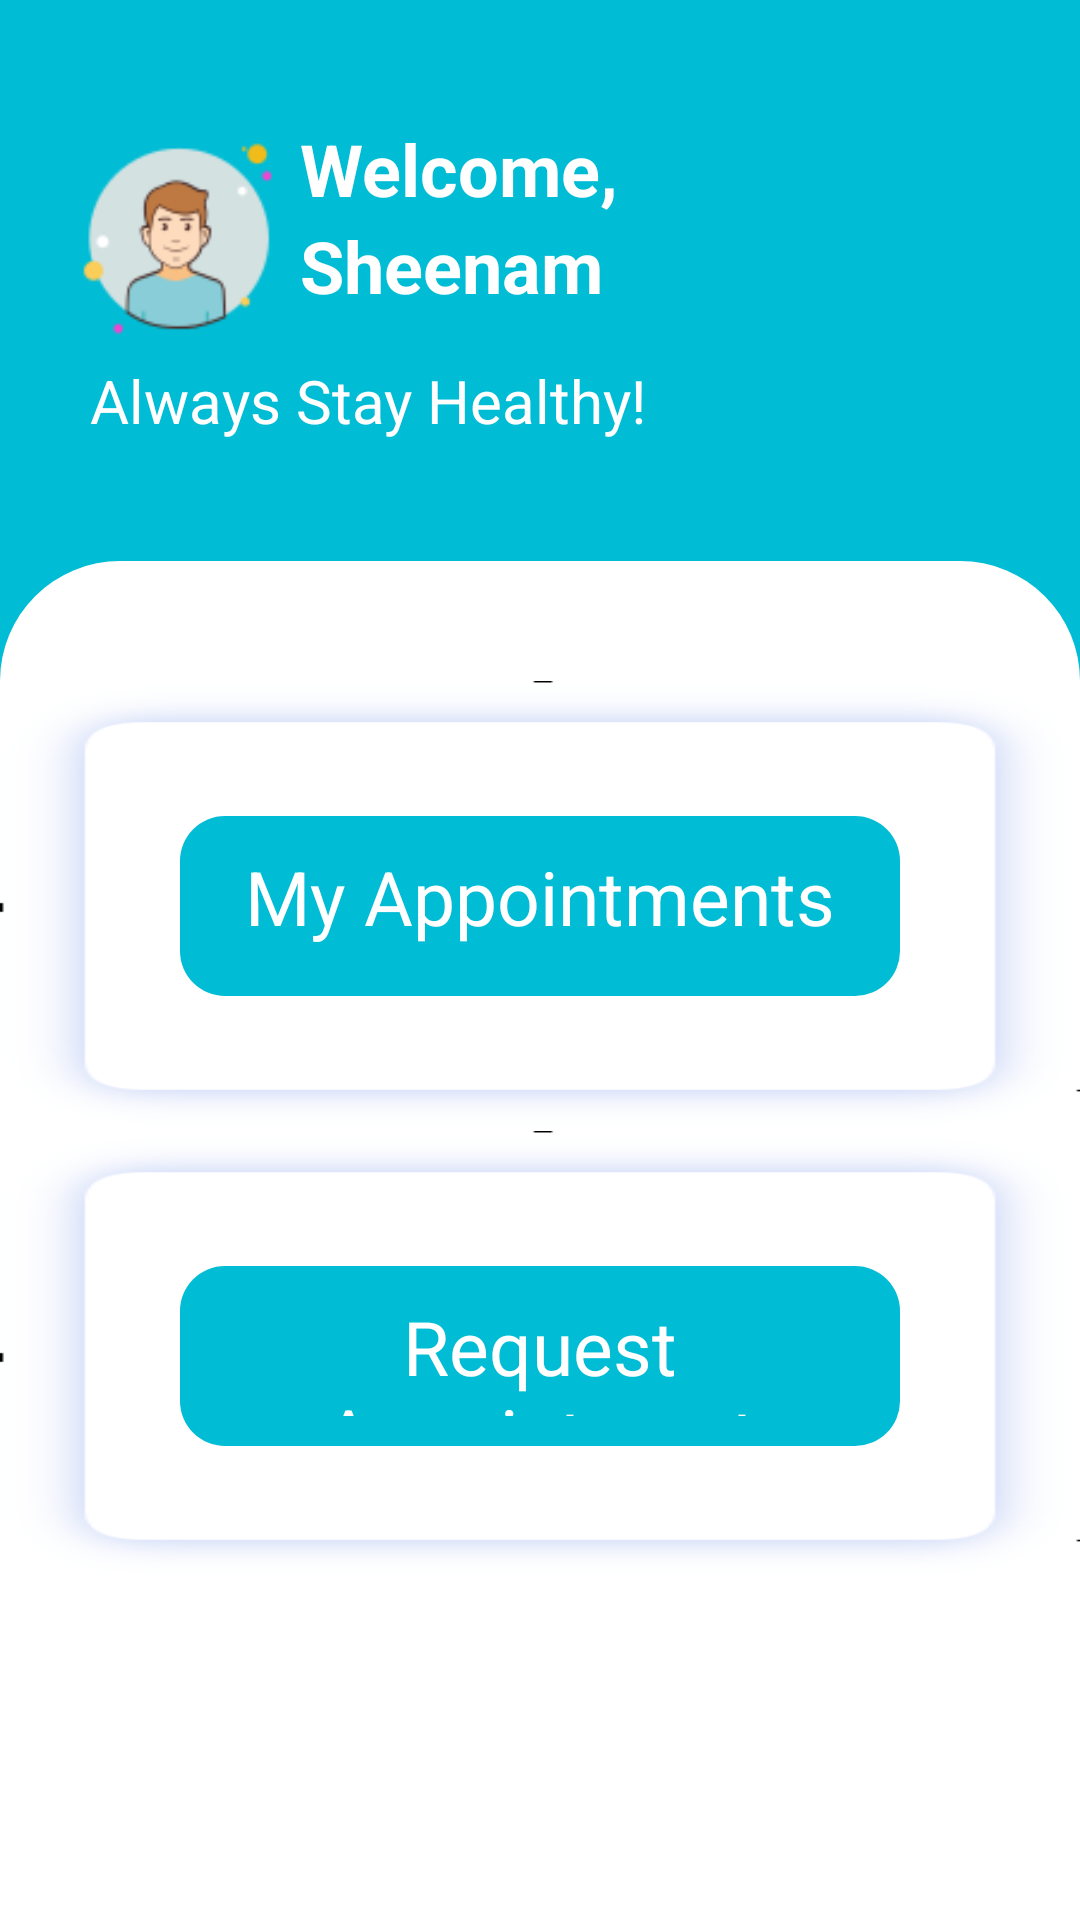

Locate icon controls on the screen. Image size 1080px×1920px, boxes as [x1=x1, y1=y1, x2=x2, y2=y2].
View Profile: [x1=83, y1=143, x2=272, y2=334]
